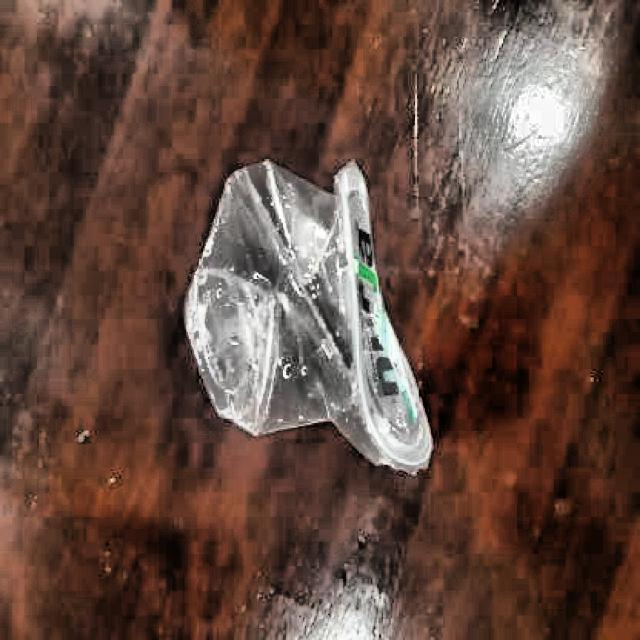Plastico descartable: (182, 161, 434, 477)
